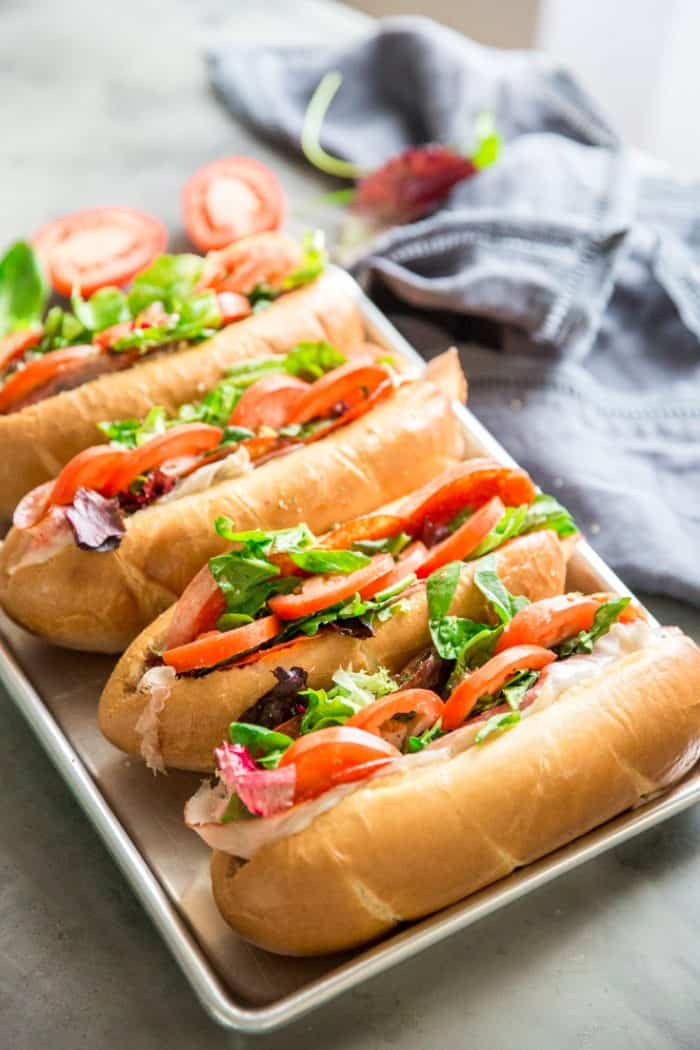sandwich: (68, 455, 613, 808), (165, 594, 700, 948), (5, 345, 490, 657), (1, 242, 378, 433)
